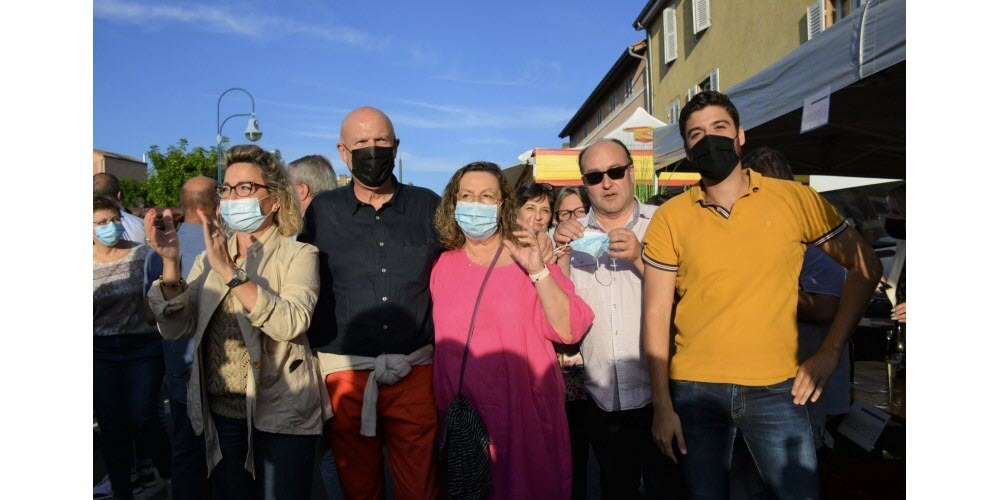with_mask: (334, 108, 397, 187), (684, 108, 742, 187), (213, 173, 278, 236), (450, 163, 501, 242), (98, 207, 124, 249)
without_mask: (585, 159, 634, 212), (524, 195, 553, 232)
